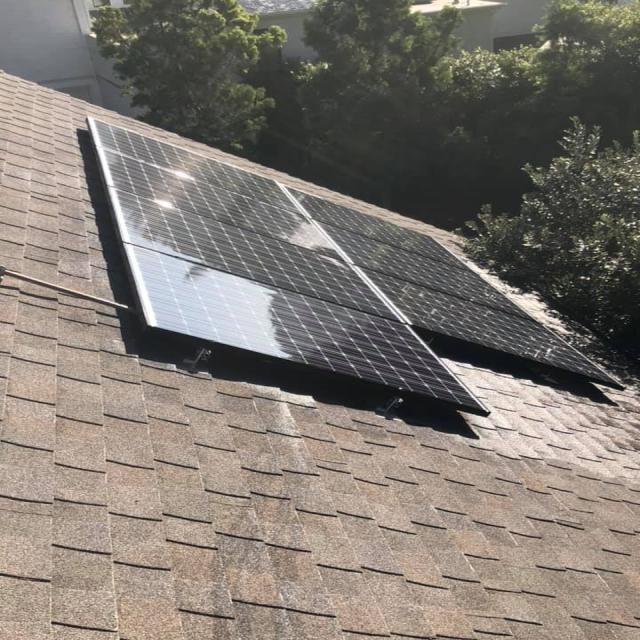clean-solar-panel: (90, 119, 615, 412)
